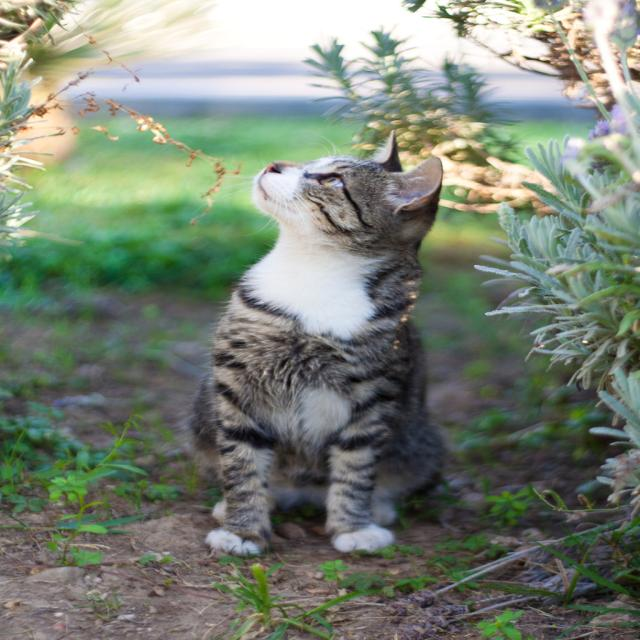Cat: (186, 126, 446, 558)
